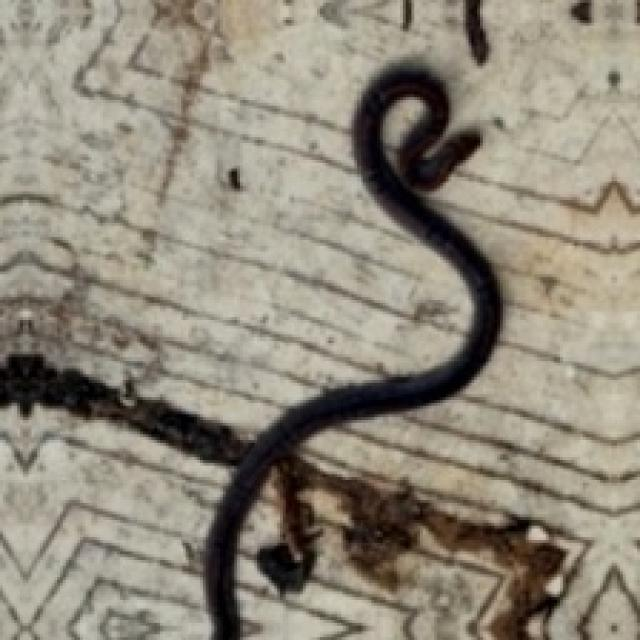northern short-headed snake: (203, 63, 500, 637)
